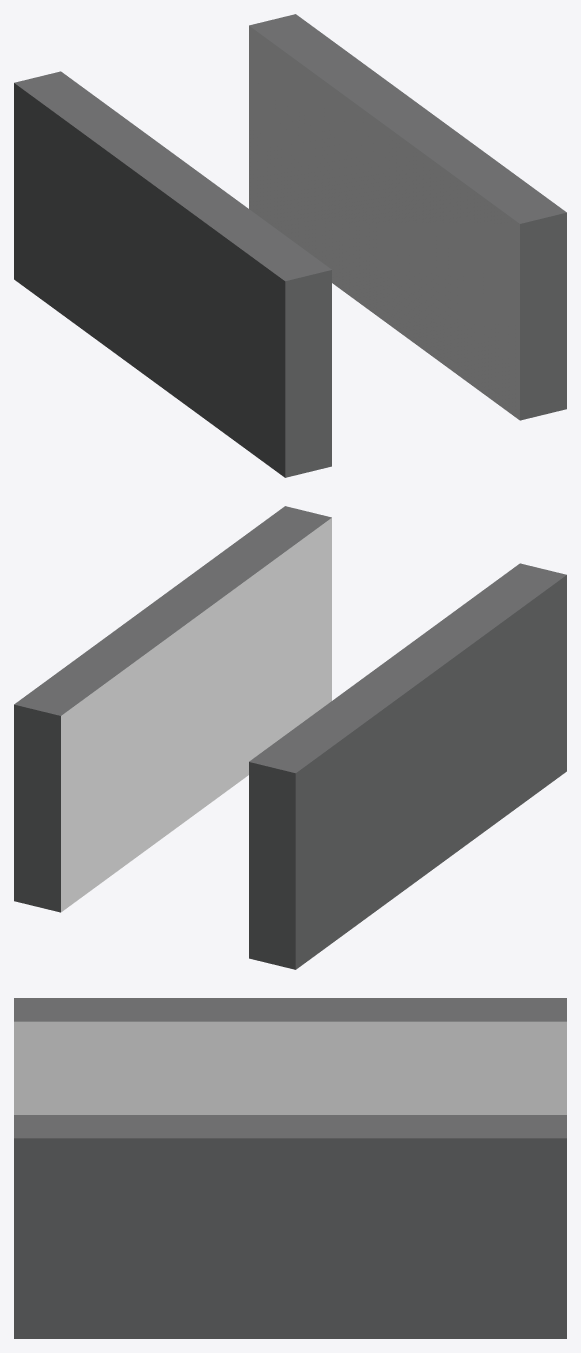
Rendered from arm_claw.obj.
3 renders of one model, top to bottom at view 1: azimuth 30°, elevation 25°; view 2: azimuth 150°, elevation 25°; view 3: azimuth 270°, elevation 25°, orthographic.
Parts seen in each view (by area): view 1: claw; view 2: claw; view 3: claw.
Part boxes in pixels (x1,y1,x2,y2): claw: (14,14,566,477); claw: (14,506,566,969); claw: (14,998,566,1338).
Bounding box in the file's own units: 0.375 × 0.25 × 0.625.
